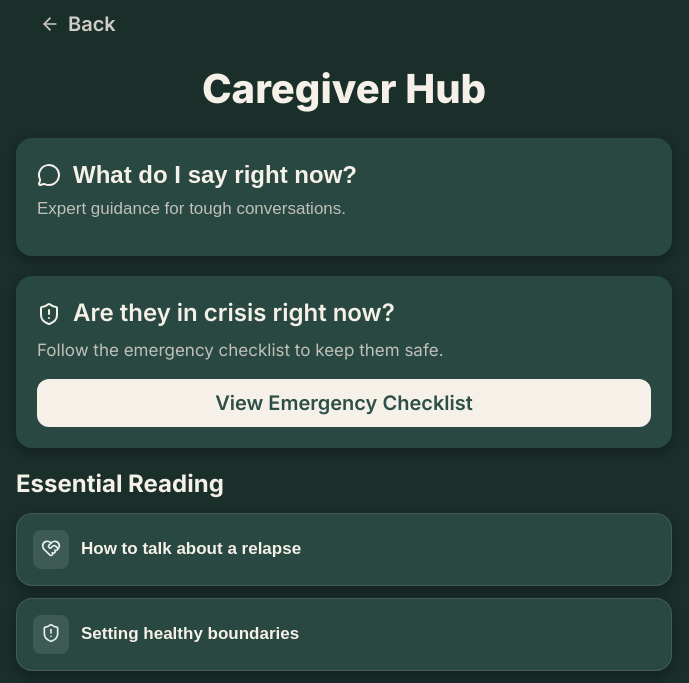
Caregiver Hub › shows guidance view when "What do I say" is clicked
What coordinates should you click on to do the following:
click the heading "What do I say right now?"
I would click on:
 (215, 175)
Its box is [73,159,357,191].
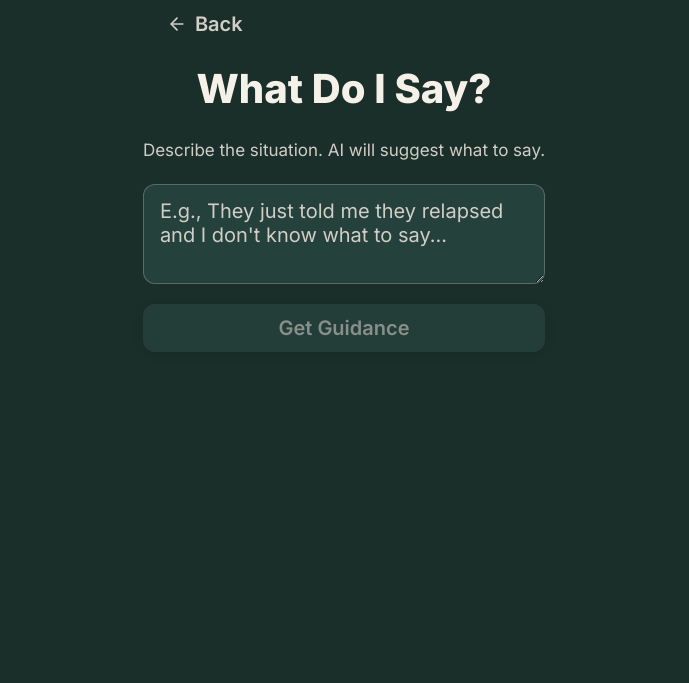
Result: the heading "What Do I Say?" is shown at [196,64,492,113]
Result: the text box with placeholder "They just told me they relapsed" is shown at [143,184,545,284]
